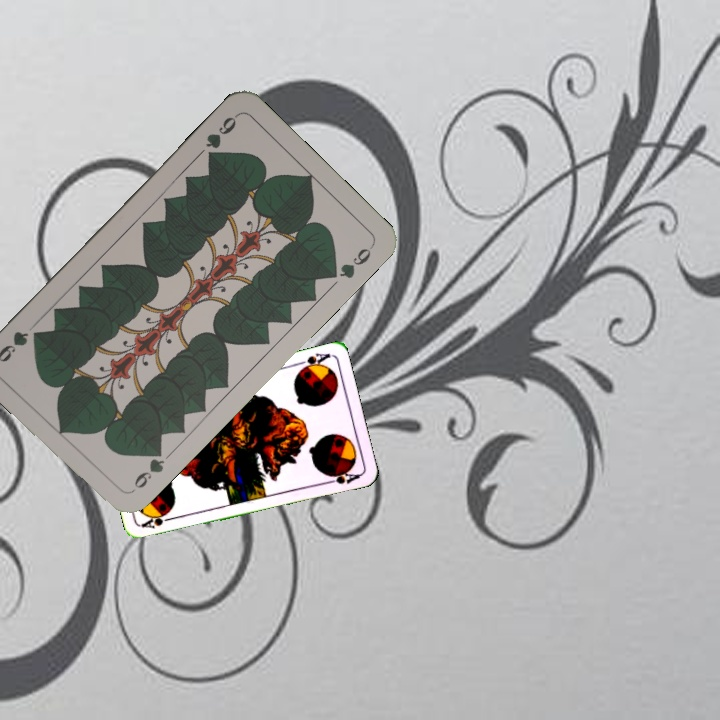G9: (201, 110, 240, 164), (130, 442, 168, 491)
SA: (292, 349, 333, 374), (138, 512, 179, 531)
